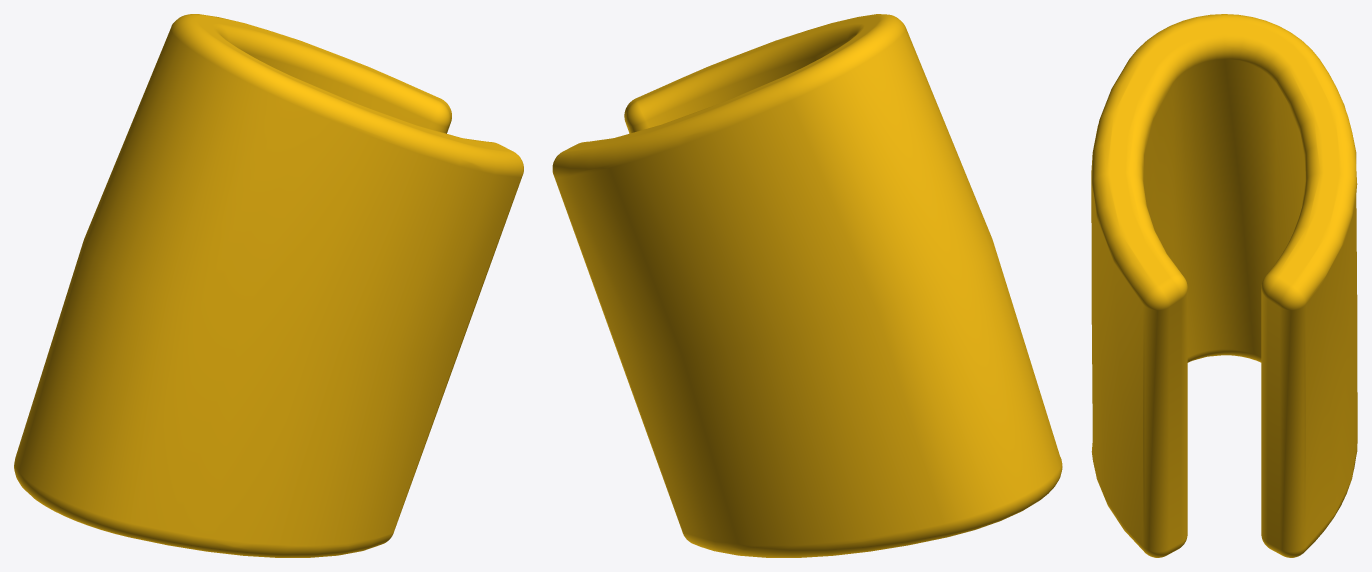
Rendered from _60355K291_Steel_Ball_Bearing_19.gltf.
3 views of the same model, side by side, from view 1: azimuth 30°, elevation 25°; view 2: azimuth 150°, elevation 25°; view 3: azimuth 270°, elevation 25° (orthographic). The views are drawn at different scales.
Parts seen in each view (by area): view 1: mesh52429, mesh52426, mesh52428, mesh52425, mesh52427, mesh52416, mesh52438, mesh52433, mesh52423; view 2: mesh52417, mesh52426, mesh52413, mesh52444, mesh52422, mesh52416, mesh52438, mesh52447, mesh52423; view 3: mesh52442, mesh52429, mesh52417, mesh52438, mesh52415, mesh52430, mesh52413, mesh52428, mesh52444, mesh52425, mesh52433, mesh52447 (+11 smaller).
Part boxes in pixels (<box>): mesh52429: <box>133,101,520,545</box>; mesh52426: <box>15,27,285,523</box>; mesh52428: <box>286,80,522,177</box>; mesh52425: <box>220,23,438,120</box>; mesh52427: <box>129,524,392,557</box>; mesh52416: <box>170,14,292,100</box>; mesh52438: <box>196,16,511,151</box>; mesh52433: <box>247,53,430,128</box>; mesh52423: <box>14,459,132,537</box>; mesh52417: <box>555,101,943,545</box>; mesh52426: <box>791,27,1061,523</box>; mesh52413: <box>553,80,790,177</box>; mesh52444: <box>637,23,855,120</box>; mesh52422: <box>684,524,947,557</box>; mesh52416: <box>783,14,905,100</box>; mesh52438: <box>564,16,879,151</box>; mesh52447: <box>646,53,829,127</box>; mesh52423: <box>943,457,1062,536</box>; mesh52442: <box>1173,59,1275,357</box>; mesh52429: <box>1091,176,1142,546</box>; mesh52417: <box>1306,197,1357,546</box>; mesh52438: <box>1109,21,1339,284</box>; mesh52415: <box>1279,305,1305,551</box>; mesh52430: <box>1143,305,1169,551</box>; mesh52413: <box>1291,57,1357,303</box>; mesh52428: <box>1091,57,1157,303</box>; mesh52444: <box>1125,65,1182,276</box>; mesh52425: <box>1266,65,1323,276</box>; mesh52433: <box>1276,83,1305,262</box>; mesh52447: <box>1144,83,1172,261</box>.
Bounding box in the file's own units: 0.0027 × 0.00292 × 0.00147.
